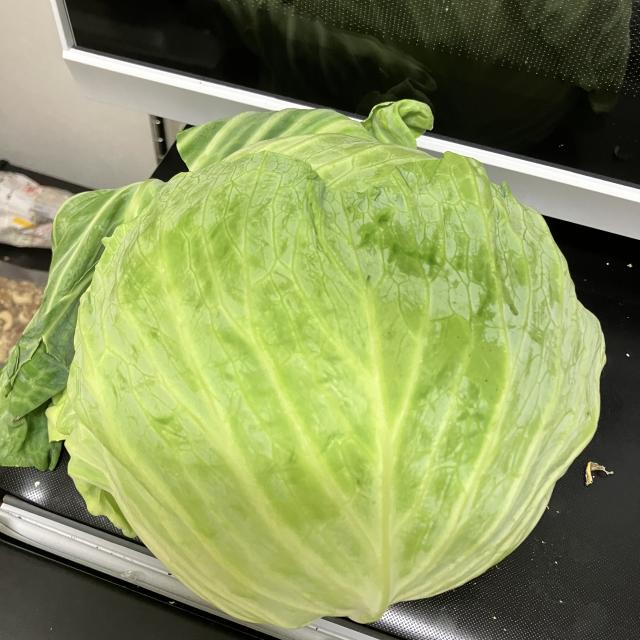cabbage: (0, 96, 613, 634)
